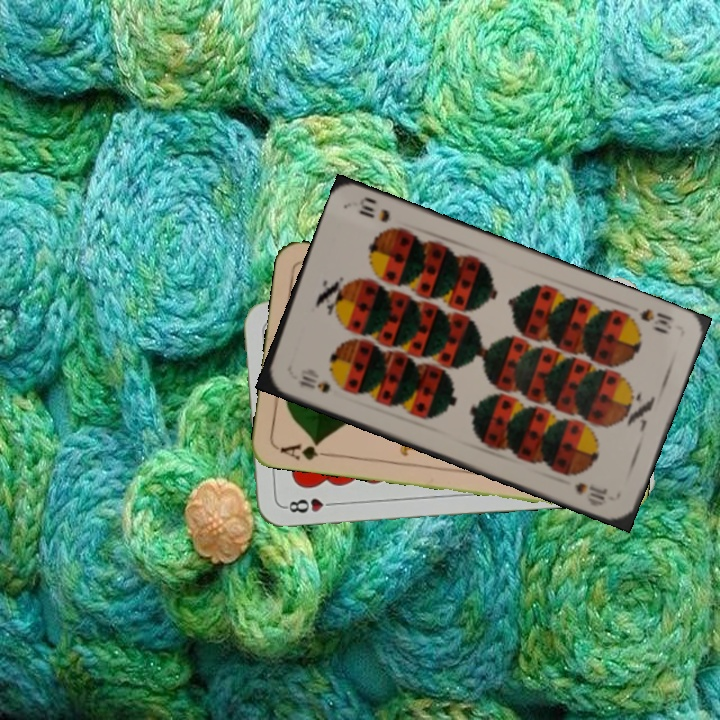GA: (276, 437, 334, 463)
H8: (280, 494, 340, 515)
S10: (636, 304, 676, 337), (295, 371, 333, 396)
